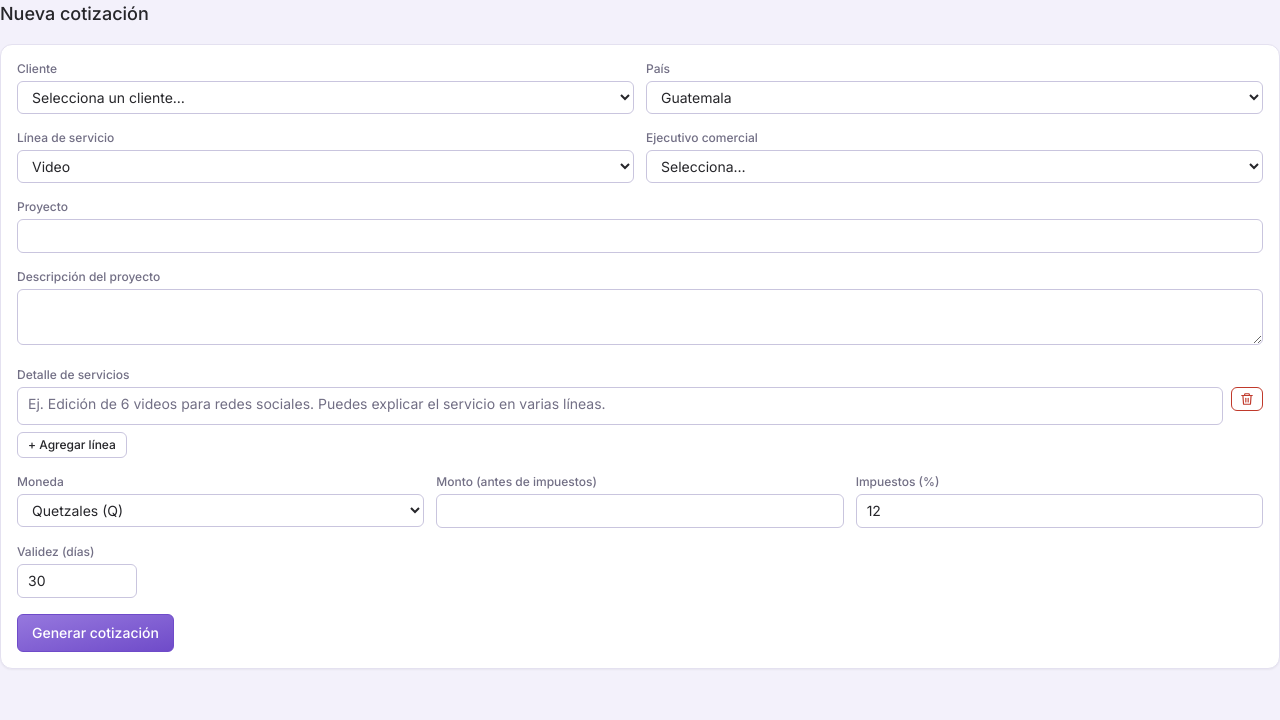
Test: NuevaCotizacionPage › saves a new client on demand, without waiting for the quotation to be submitted
Step 1. Select "+ Nuevo cliente" in the dropdown labelled "Cliente" → [326, 98], box [17,81,634,114]
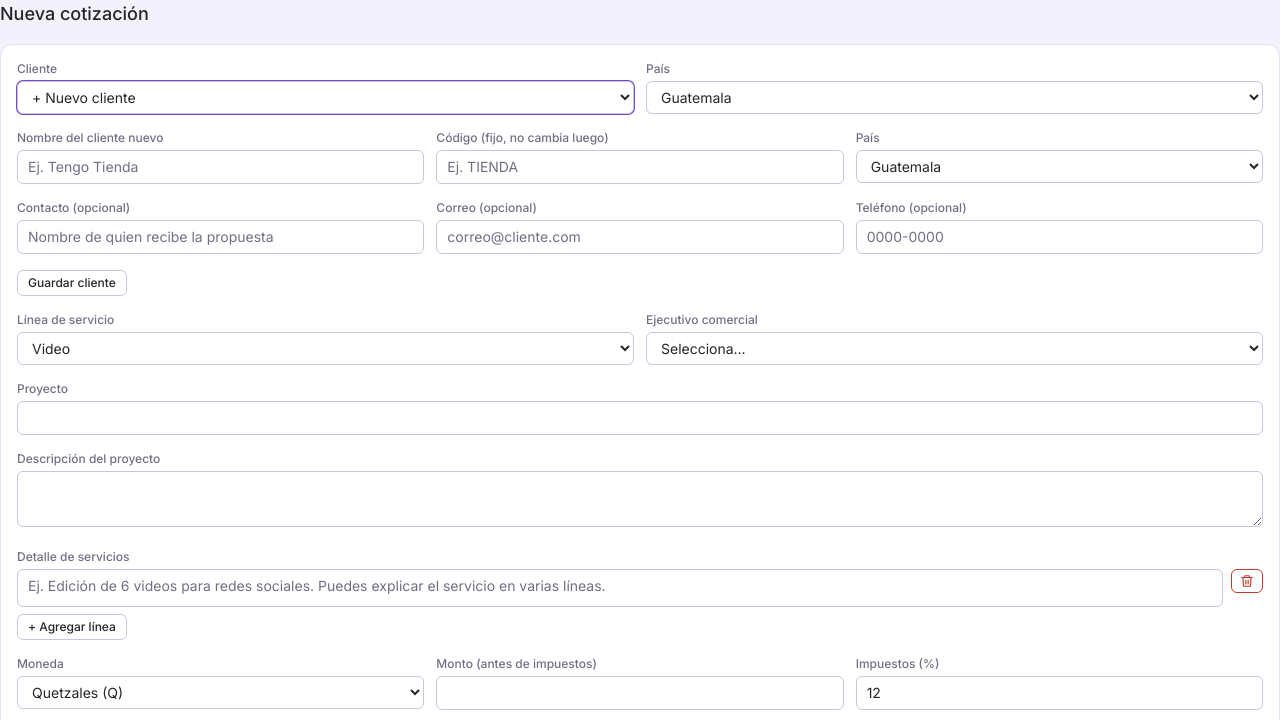
Step 2. Type "Tengo Tienda" into the field labelled "Nombre del cliente nuevo" → [221, 167], box [17,150,424,184]
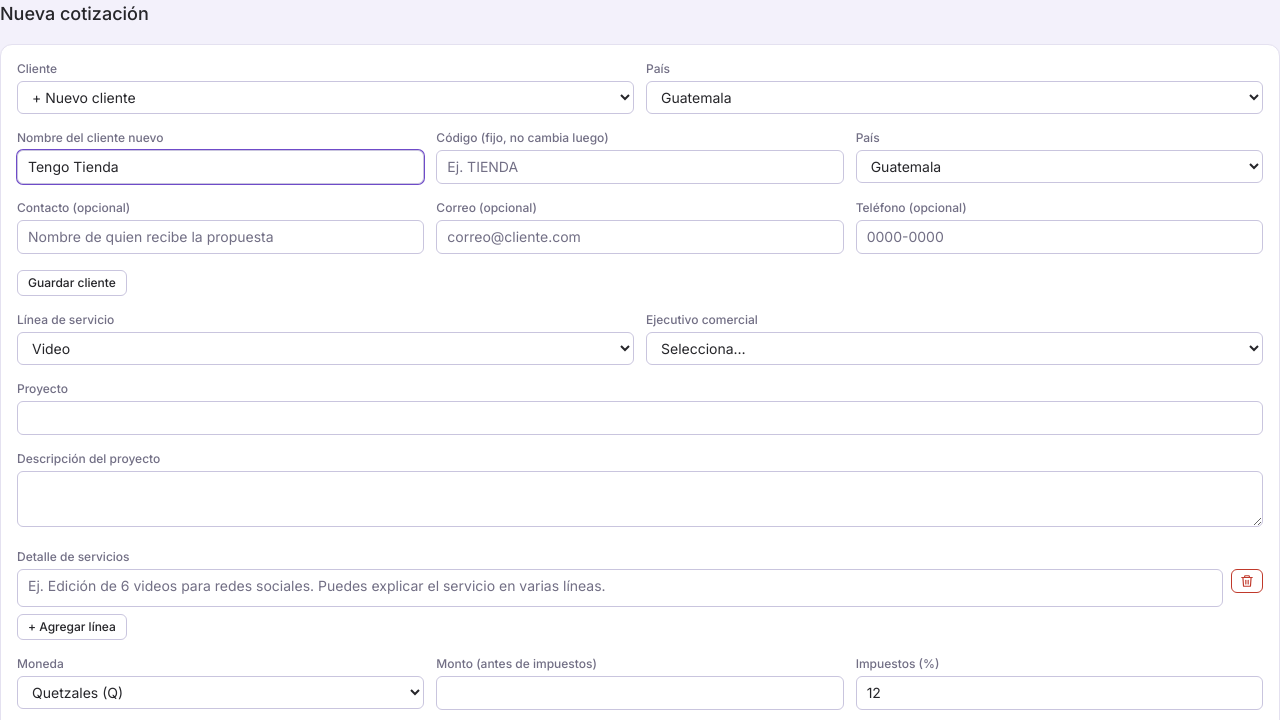
Step 3. Click the button "Guardar cliente" → [72, 283], box [17,270,127,296]
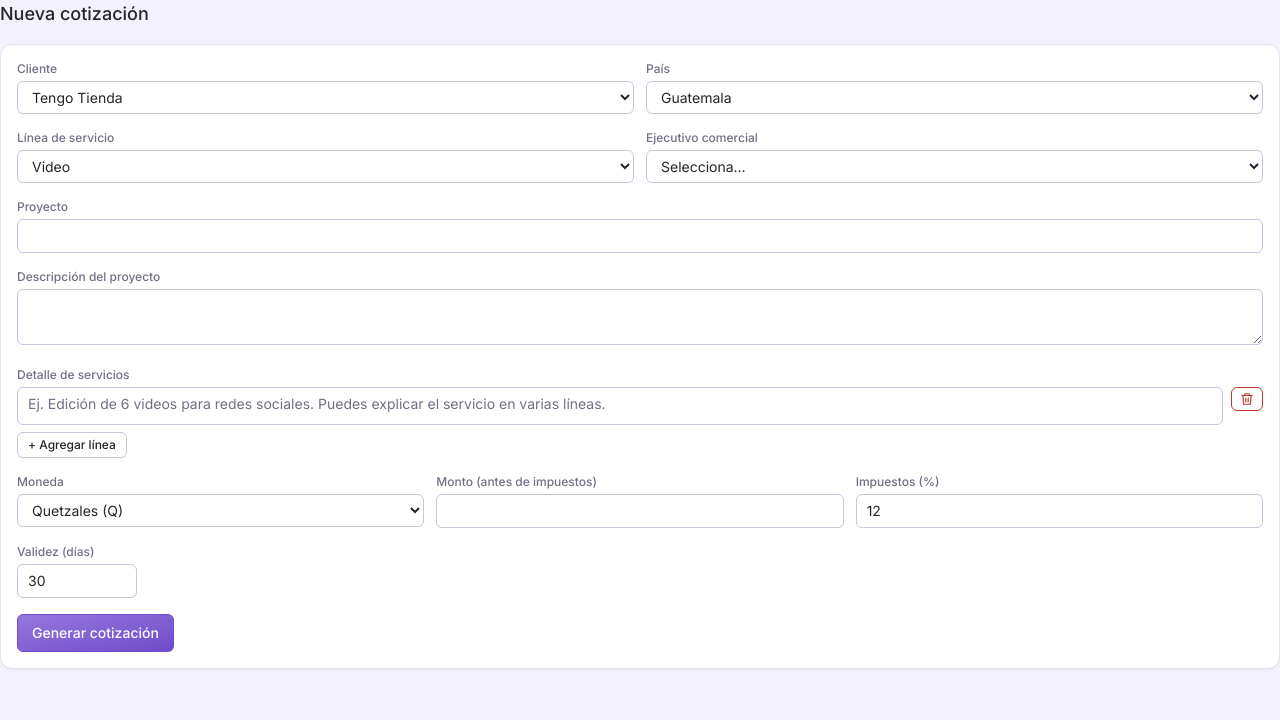
Check: the label labelled "Nombre del cliente nuevo" is gone
